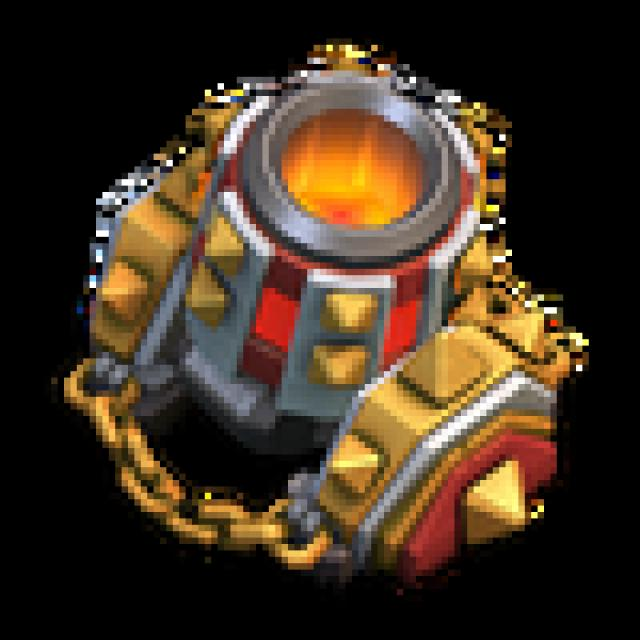mortar: (51, 35, 613, 602)
